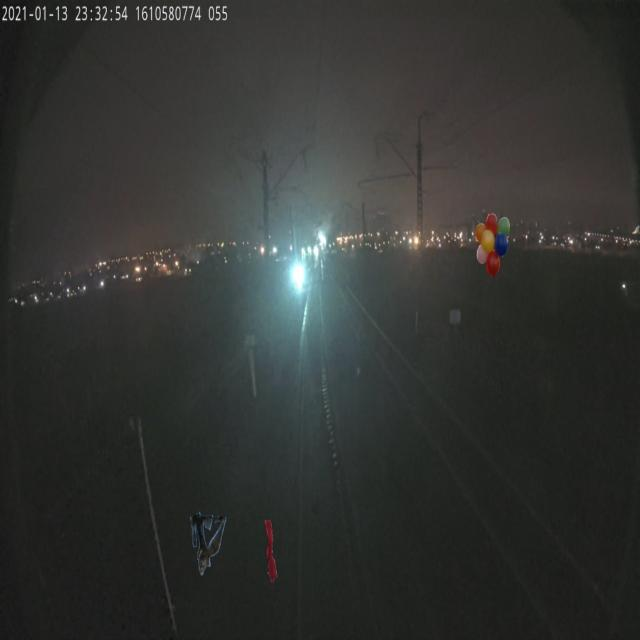balloon: (474, 212, 510, 276)
floating object: (190, 512, 227, 576), (264, 518, 278, 582)
